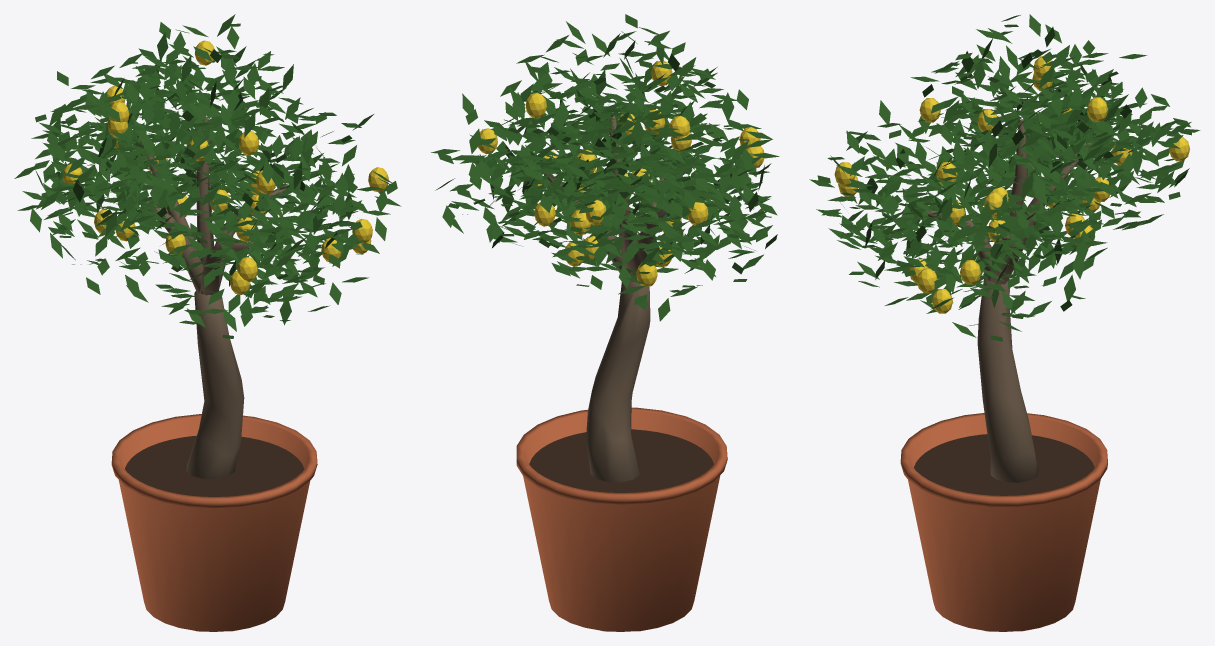
Rendered from limonero.glb.
3 renders of one model, left to right at view 1: azimuth 30°, elevation 25°; view 2: azimuth 150°, elevation 25°; view 3: azimuth 270°, elevation 25°, orthographic. The views are drawn at different scales.
Visible parts, largest first — view 1: hojas, maceta, rama_0, tierra, frutos; view 2: hojas, maceta, rama_0, tierra, frutos; view 3: hojas, maceta, rama_0, tierra, frutos.
Boxes of the visible parts, x1=… form: hojas: x1=14, y1=14, x2=401, y2=338; maceta: x1=111, y1=414, x2=317, y2=631; rama_0: x1=138, y1=116, x2=288, y2=478; tierra: x1=125, y1=435, x2=304, y2=496; frutos: x1=62, y1=40, x2=388, y2=294; hojas: x1=431, y1=14, x2=779, y2=321; maceta: x1=516, y1=407, x2=727, y2=631; rama_0: x1=544, y1=114, x2=670, y2=482; tierra: x1=529, y1=429, x2=713, y2=492; frutos: x1=478, y1=61, x2=764, y2=286; hojas: x1=809, y1=14, x2=1200, y2=341; maceta: x1=900, y1=413, x2=1107, y2=631; rama_0: x1=926, y1=119, x2=1090, y2=482; tierra: x1=914, y1=434, x2=1094, y2=495; frutos: x1=834, y1=56, x2=1189, y2=313.
Bounding box in the file's own units: 1.07 × 1.79 × 1.1.
